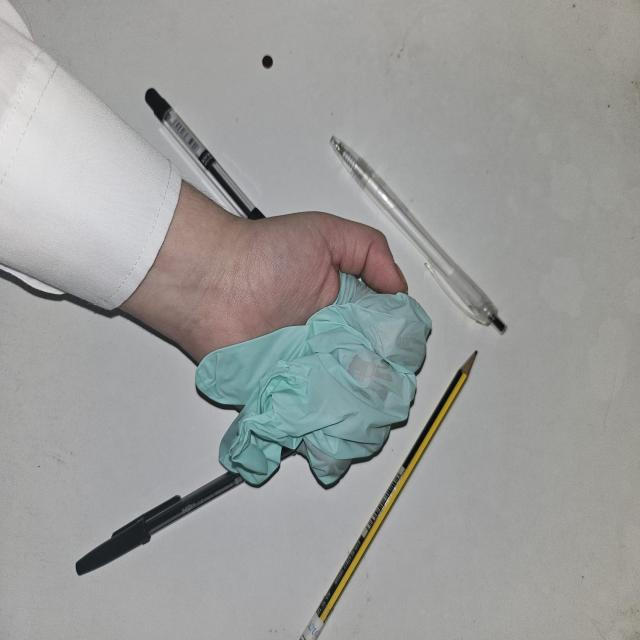glove_partial: (193, 210, 434, 488)
